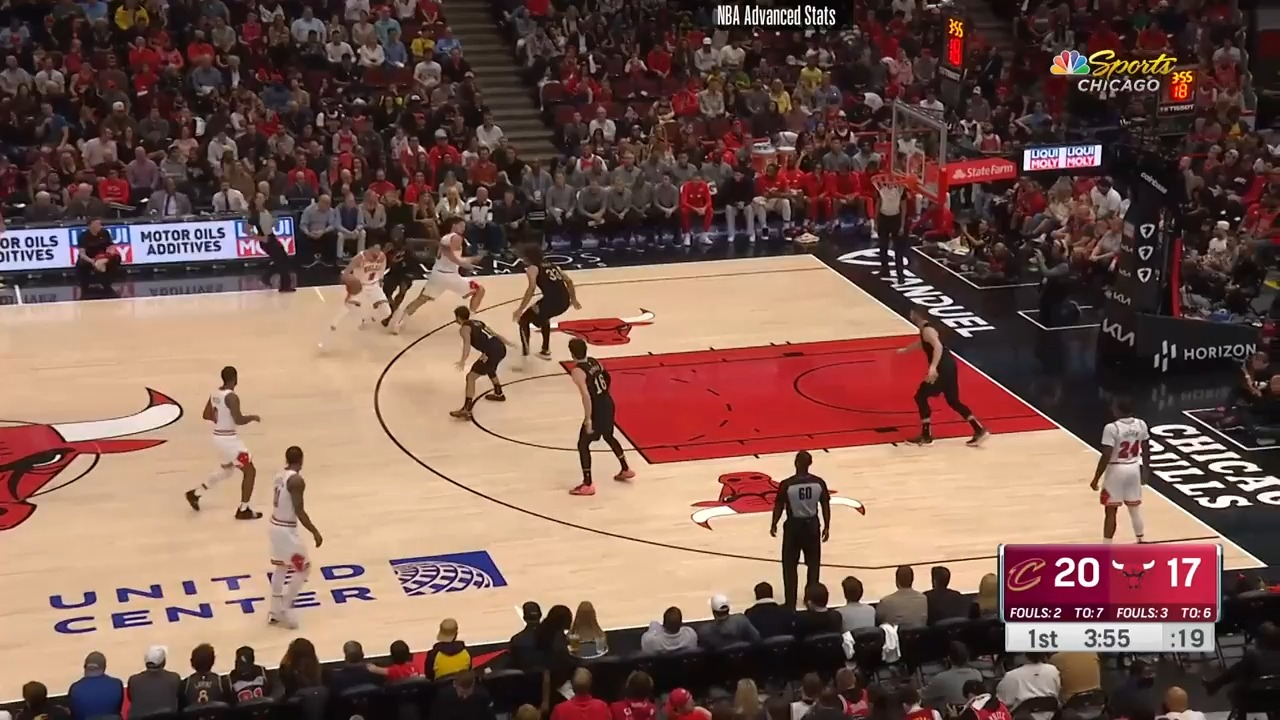net: (867, 166, 929, 220)
player: (252, 438, 330, 637), (548, 332, 641, 498), (189, 365, 271, 524), (384, 215, 490, 336), (904, 305, 994, 447), (1089, 397, 1153, 542), (510, 236, 583, 361), (446, 307, 511, 428), (342, 242, 407, 315), (383, 217, 420, 332)
referee: (759, 446, 831, 602), (240, 197, 298, 295), (874, 190, 907, 285)
